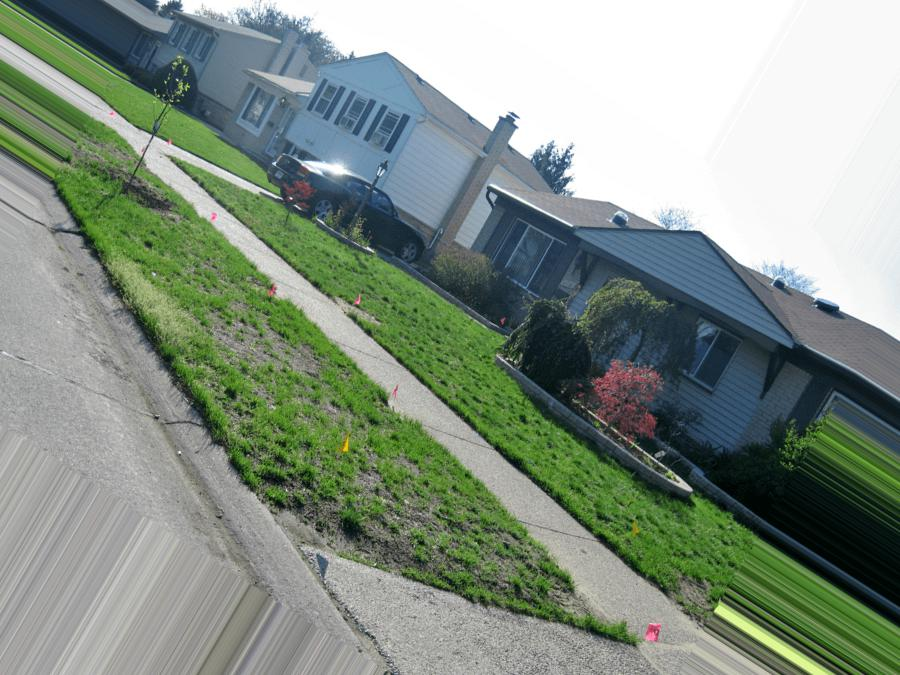patch: (311, 497, 414, 554), (247, 324, 297, 371), (218, 328, 239, 354)
